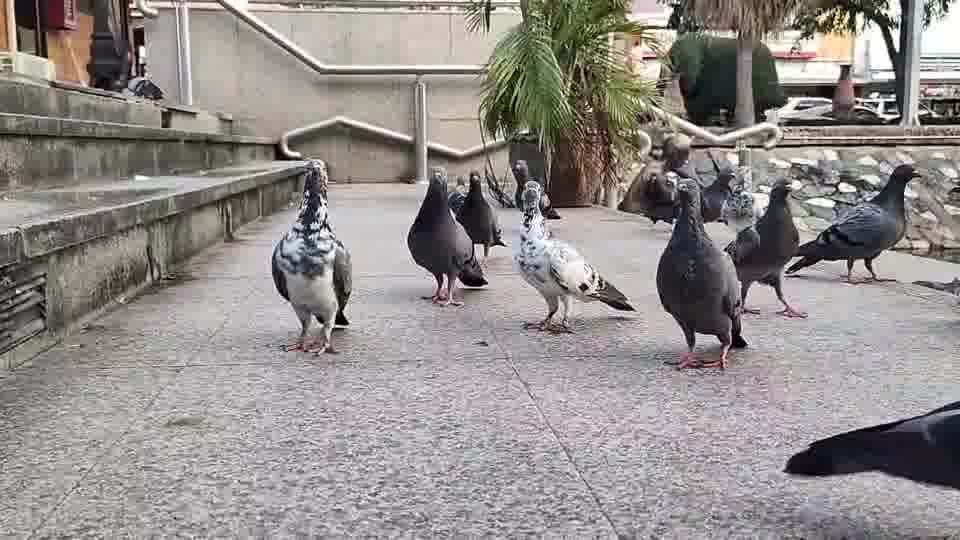Pigeon: (513, 181, 637, 334), (654, 177, 748, 370), (784, 162, 922, 282), (270, 157, 352, 356), (782, 399, 959, 491), (723, 176, 807, 319), (405, 170, 477, 306), (448, 170, 507, 272), (511, 158, 561, 219)
